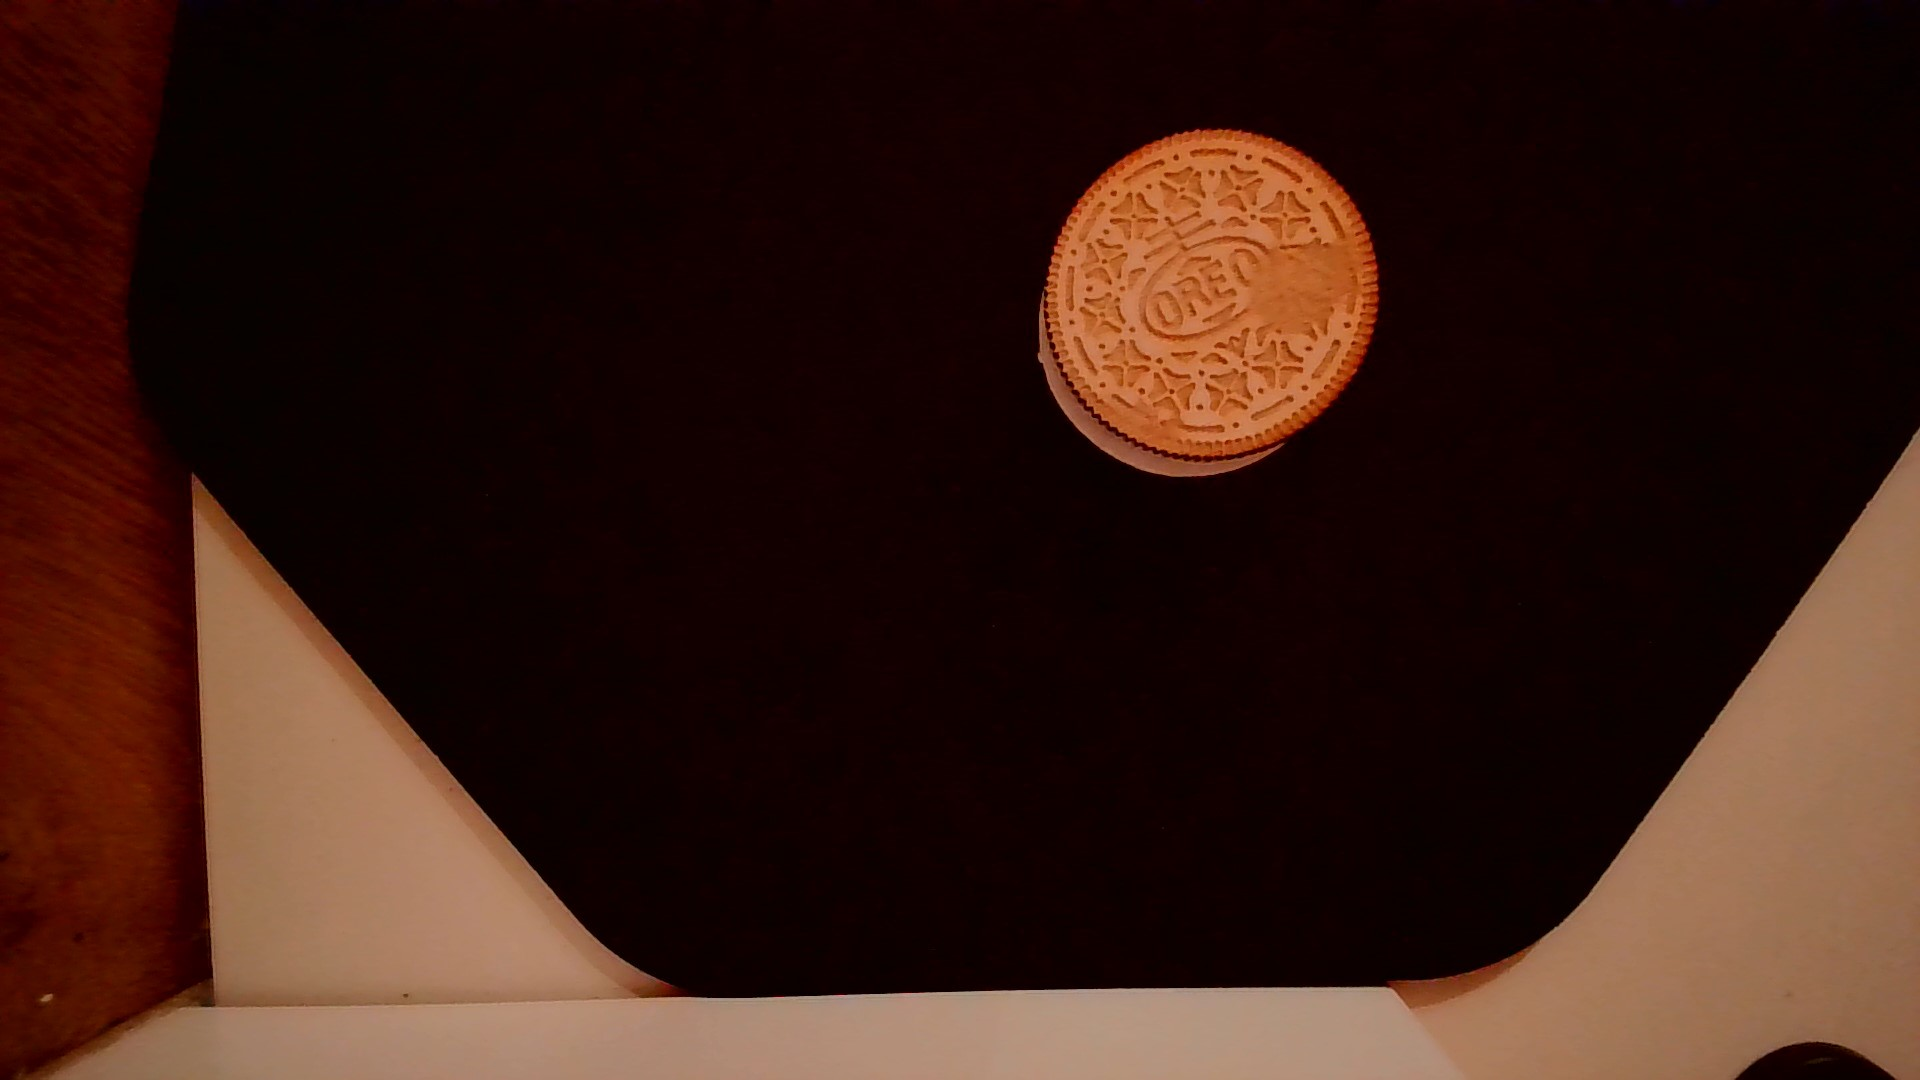Décalé: (1027, 282, 1294, 489)
Effacé: (1245, 231, 1371, 334)
Oréo: (1030, 120, 1386, 483)
